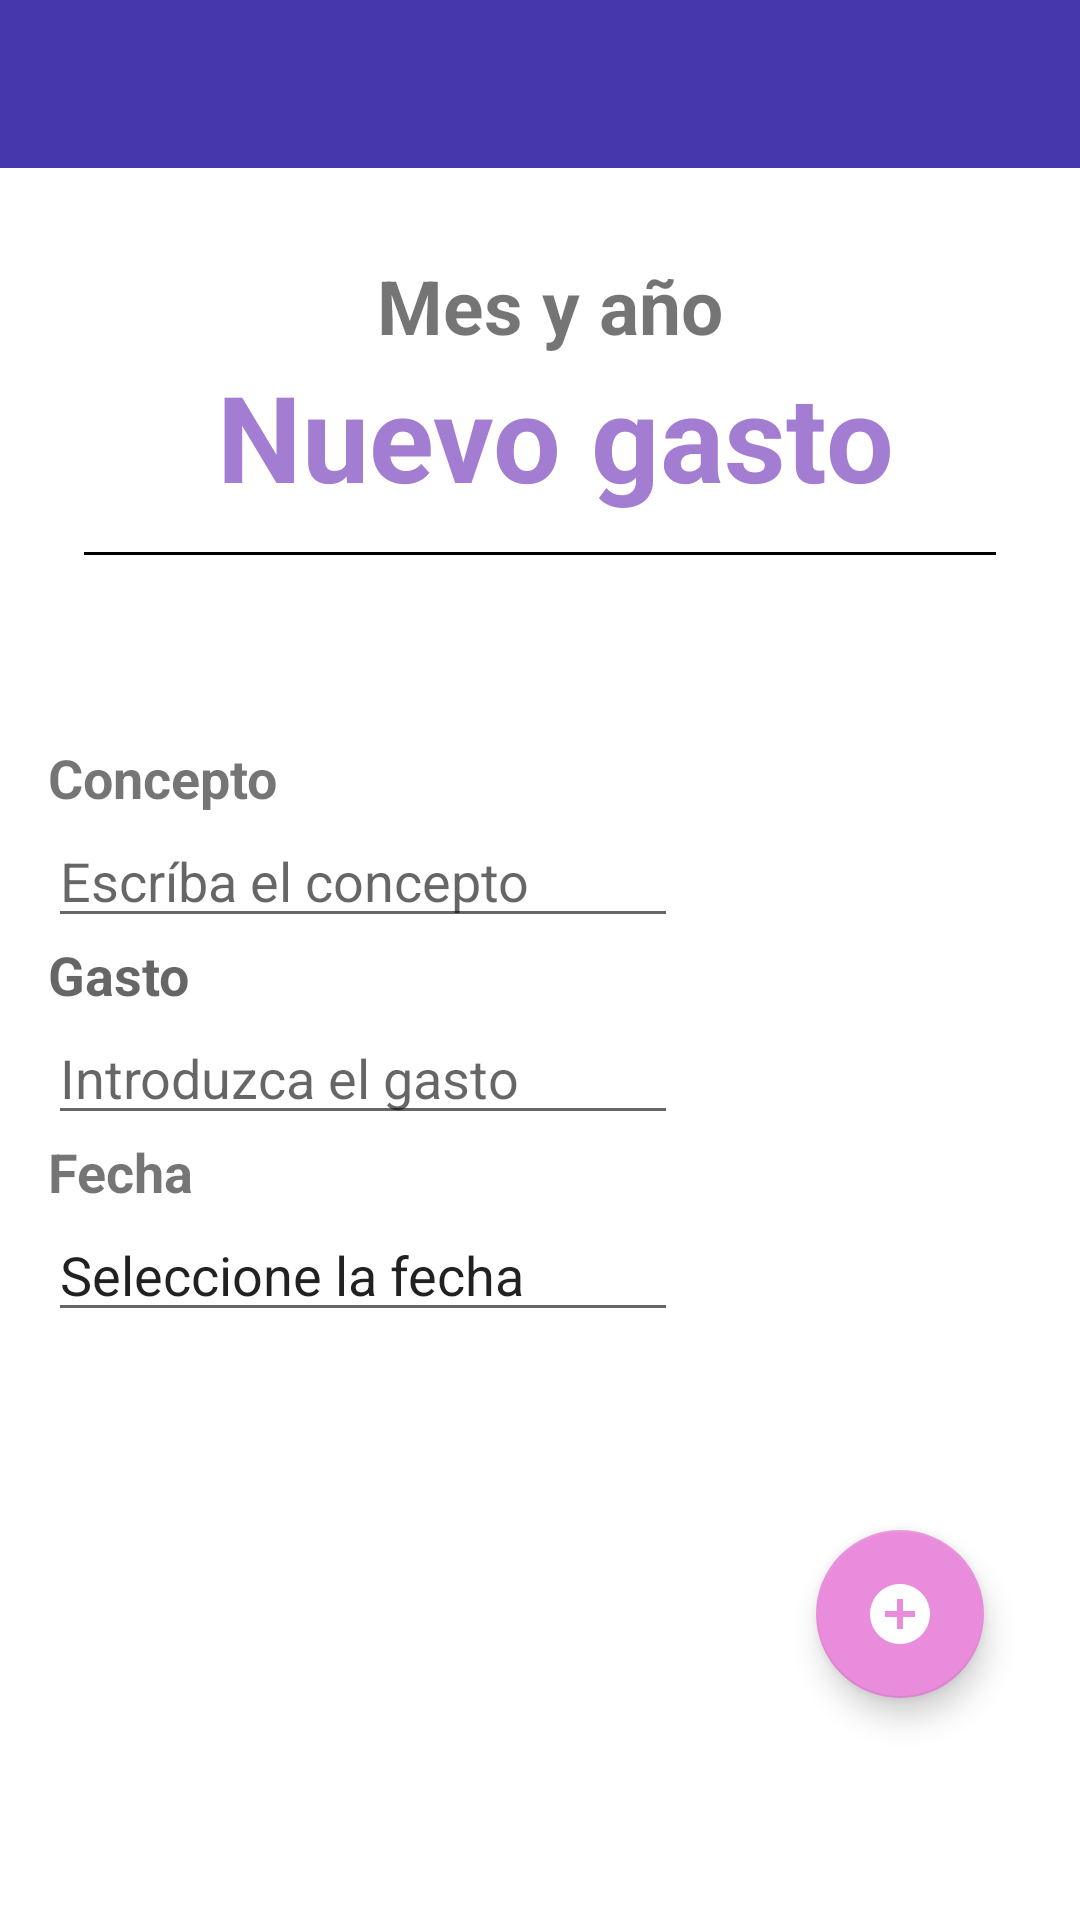

Icon bounding boxes for this 1080*1920 phone screenshot, format bbox=[x1, y1, x2, y2]:
add: bbox=[816, 1530, 984, 1698]
